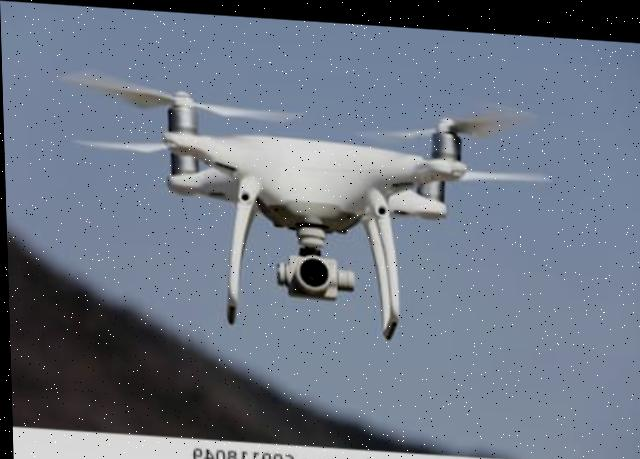drone: (0, 0, 640, 426)
